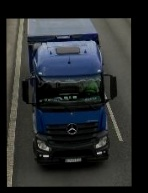truck: (22, 18, 114, 169)
